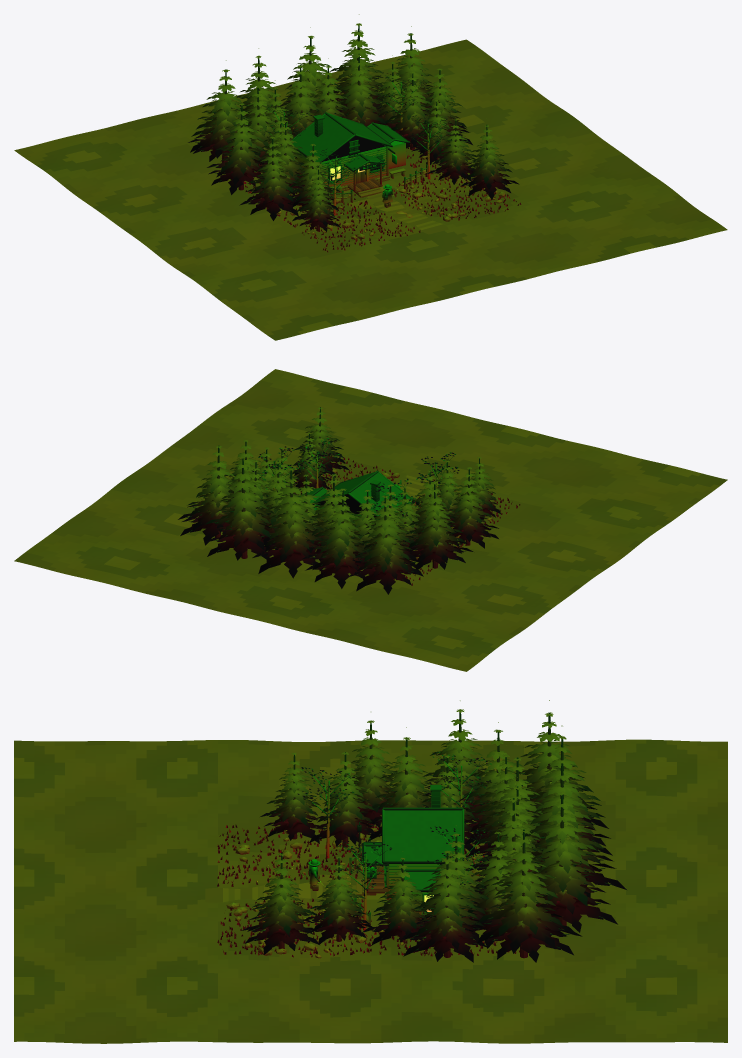
Rendered from forest-clinic-prepared.glb.
The picture shows the model from 3 angles, top to bottom: view 1: azimuth 30°, elevation 25°; view 2: azimuth 150°, elevation 25°; view 3: azimuth 270°, elevation 25°; orthographic projection. The views are drawn at different scales.
Parts seen in each view (by area): view 1: Ground, Forest, Undergrowth, Roof, Clinic, Porch, Props; view 2: Ground, Forest, Roof, Undergrowth; view 3: Ground, Forest, Roof, Undergrowth, Clinic, Porch.
Boxes of the visible parts, x1,y1,x2,y2 form: Ground: (14, 39, 727, 340); Forest: (188, 14, 519, 231); Undergrowth: (219, 142, 521, 252); Roof: (291, 112, 410, 163); Clinic: (295, 136, 405, 193); Porch: (343, 153, 385, 197); Props: (327, 164, 448, 223); Ground: (14, 369, 727, 671); Forest: (178, 407, 500, 594); Roof: (294, 470, 415, 516); Undergrowth: (258, 455, 520, 585); Ground: (14, 739, 727, 1043); Forest: (241, 700, 626, 962); Roof: (382, 785, 465, 891); Undergrowth: (217, 824, 519, 958); Clinic: (362, 843, 443, 919); Porch: (356, 841, 386, 895).
Size of the model in its own units: 56 by 13.37 by 56.
